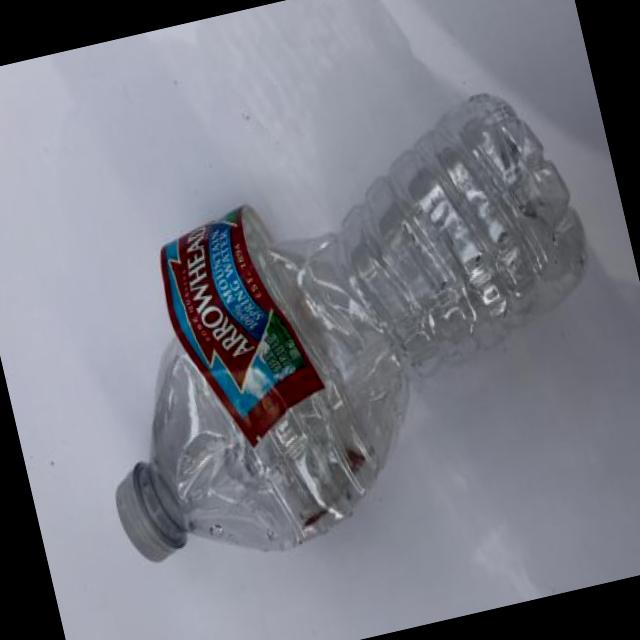Recycle: (39, 69, 640, 589)
